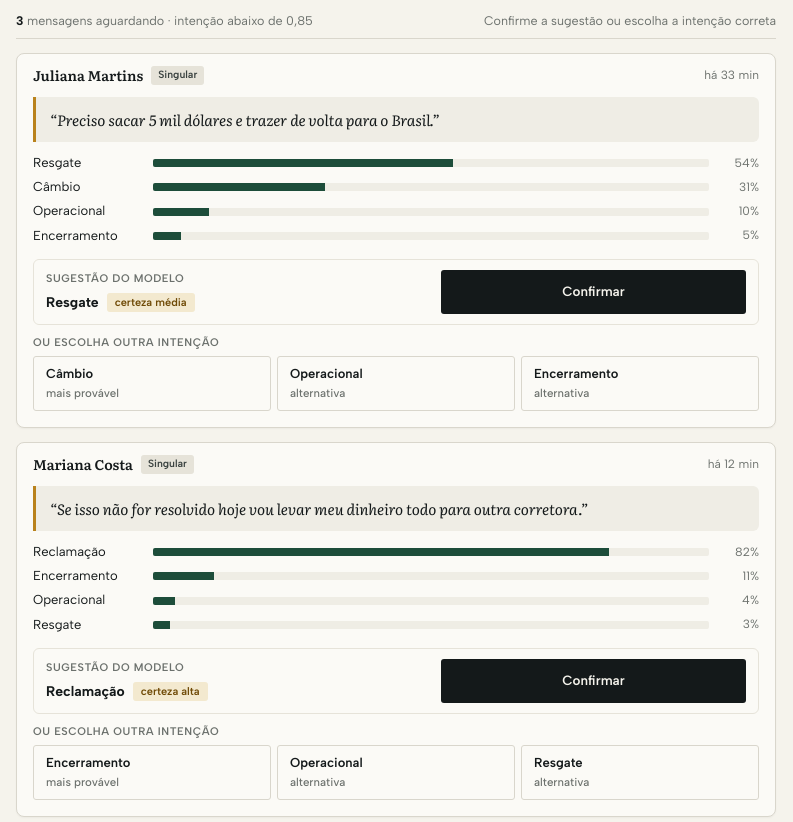
Test: ReviewScreen › keeps cards and shows a toast when correction fails
The width and height of the screenshot is (793, 822).
Click the button "Operacional alternativa" below "alta": {"x": 396, "y": 772} x1=277 y1=745 x2=515 y2=800
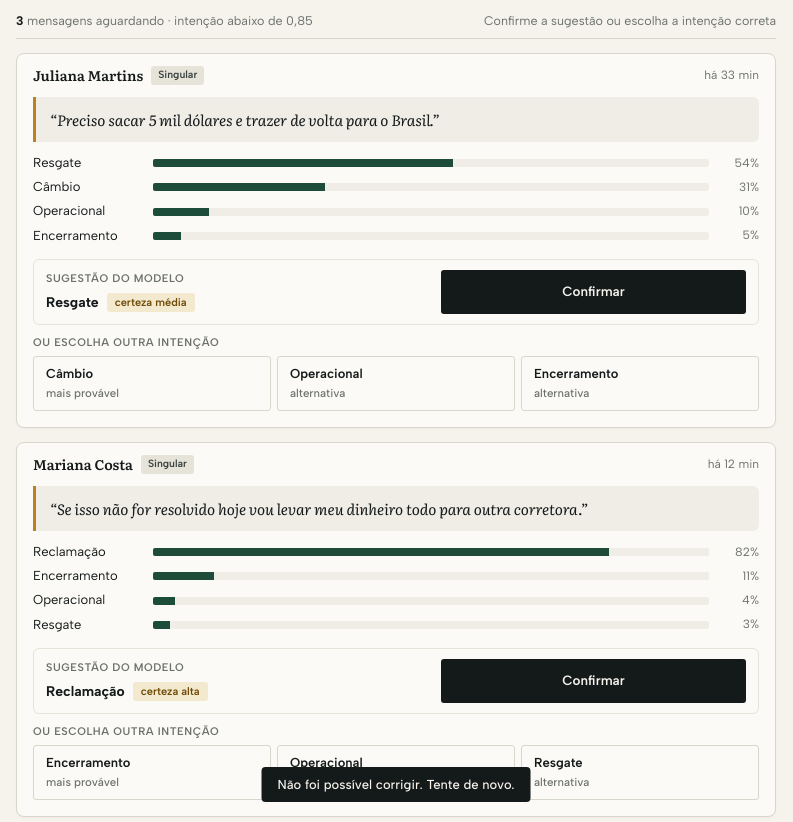
expect the text "Não foi possível corrigir. Tente de novo." is shown: met, box x1=278 y1=777 x2=514 y2=792
